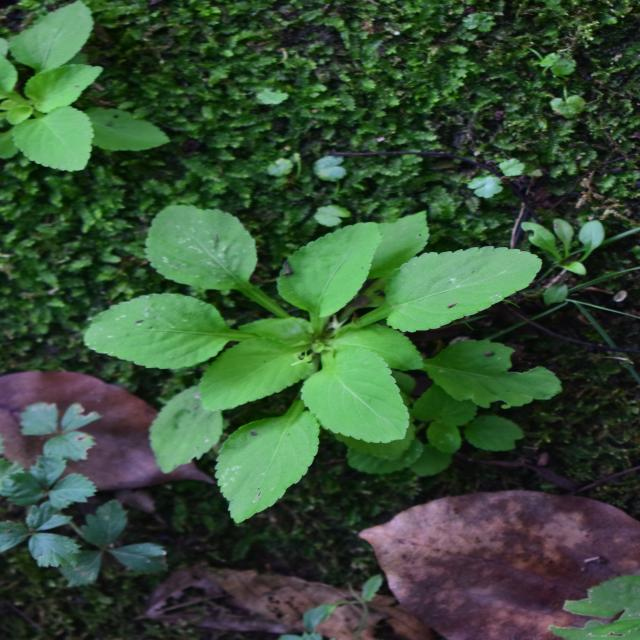Viola: (138, 81, 443, 516)
